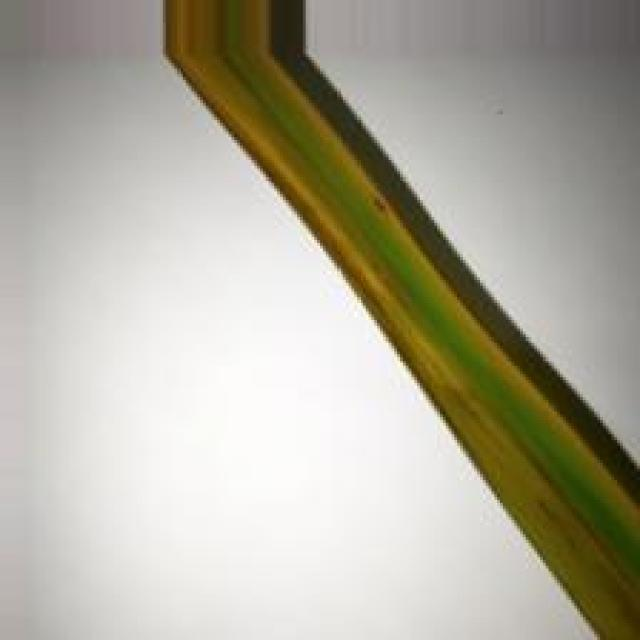Narrow_Brown_Leaf_Spot: (160, 0, 640, 640)
